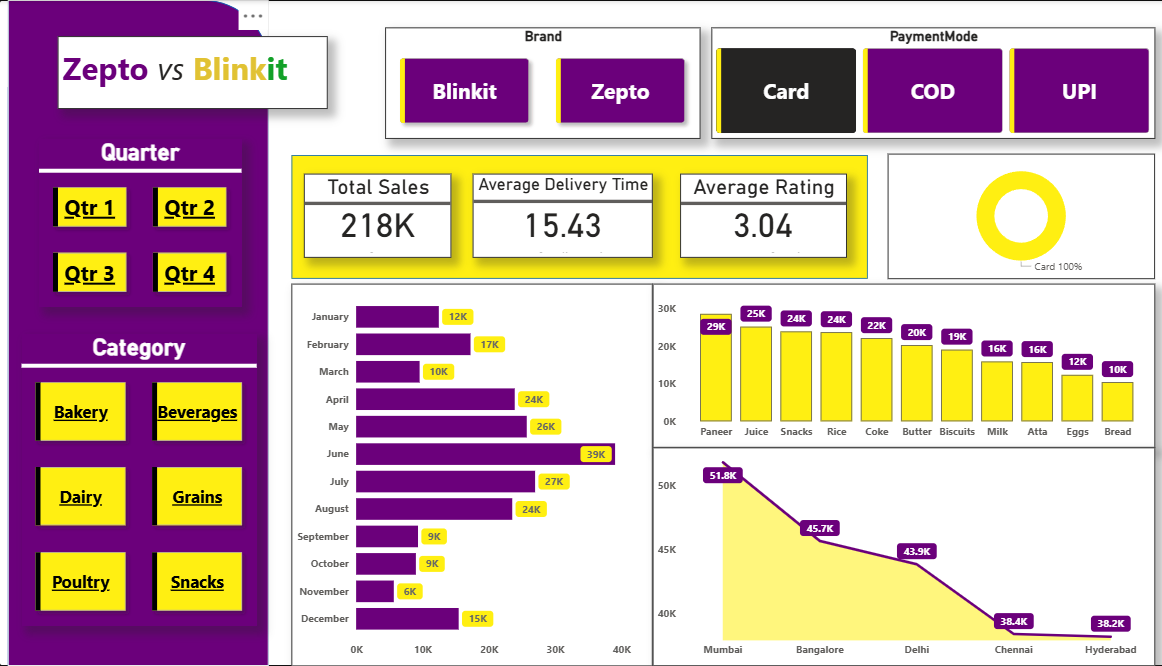

The dashboard page shown, as its layout file describes it:
{"tool":"powerbi","page":{"name":"Page 1","canvas":[1400,800],"ordinal":0},"visuals":[{"type":"shape","box":[10.5,0,313.7,800],"z":0},{"type":"textbox","box":[70.5,43,324.2,87.1],"z":2000},{"type":"advancedSlicerVisual","fields":{"Values":["Table2.Brand"]},"box":[463.8,33,378.2,133.6],"z":3000},{"type":"advancedSlicerVisual","fields":{"Values":["Table2.PaymentMode"]},"box":[855.5,33,532.8,133.6],"z":4000},{"type":"advancedSlicerVisual","title":" Quarter","fields":{"Values":["Table2.Date.Variation.Date Hierarchy.Quarter"]},"box":[48,166.6,243.1,202.6],"z":5000},{"type":"advancedSlicerVisual","title":" Category","fields":{"Values":["Table2.Category"]},"box":[27,400.7,282.2,351.2],"z":6000},{"type":"shape","box":[351.2,186.1,691.9,148.6],"z":7000},{"type":"card","title":"Total Sales","fields":{"Values":["Sum(Table2.Amount)"]},"box":[366.2,208.6,177.1,100.6],"z":8000},{"type":"card","title":"Average Delivery Time","fields":{"Values":["Avg(Table2.DeliveryTime(min))"]},"box":[568.8,208.6,216.1,100.6],"z":9000},{"type":"card","title":"Average Rating","fields":{"Values":["Avg(Table2.Rating)"]},"box":[818,208.6,199.6,100.6],"z":10000},{"type":"clusteredBarChart","fields":{"Category":["Table2.Date.Variation.Date Hierarchy.Month"],"Y":["Sum(Table2.Amount)"]},"box":[351.2,340.7,433.7,459.3],"z":11000},{"type":"columnChart","fields":{"Category":["Table2.Product"],"Y":["Sum(Table2.Amount)"]},"box":[785,340.7,603.3,196.6],"z":12000},{"type":"areaChart","fields":{"Category":["Table2.City"],"Y":["Sum(Table2.Amount)"]},"box":[785,538,603,262],"z":13000},{"type":"donutChart","fields":{"Category":["Table2.PaymentMode"],"Y":["Sum(Table2.Amount)"]},"box":[1067.1,184.6,321.2,150.1],"z":14000}]}

Visuals, with their boxes in screenshot pixels (x1, y1, x2, y2), scaled from the page's 1400x800 canvas onto the 1162x666 screenshot:
shape: Rect(9, 0, 269, 665)
textbox: Rect(59, 36, 328, 108)
advancedSlicerVisual - Table2.Brand: Rect(385, 27, 699, 139)
advancedSlicerVisual - Table2.PaymentMode: Rect(710, 27, 1152, 139)
" Quarter" advancedSlicerVisual: Rect(40, 139, 242, 307)
" Category" advancedSlicerVisual: Rect(22, 334, 257, 626)
shape: Rect(291, 155, 866, 279)
"Total Sales" card: Rect(304, 174, 451, 257)
"Average Delivery Time" card: Rect(472, 174, 651, 257)
"Average Rating" card: Rect(679, 174, 845, 257)
clusteredBarChart - Table2.Date.Variation.Date Hierarchy.Month x Sum(Table2.Amount): Rect(291, 284, 651, 665)
columnChart - Table2.Product x Sum(Table2.Amount): Rect(652, 284, 1152, 447)
areaChart - Table2.City x Sum(Table2.Amount): Rect(652, 448, 1152, 665)
donutChart - Table2.PaymentMode x Sum(Table2.Amount): Rect(886, 154, 1152, 279)
